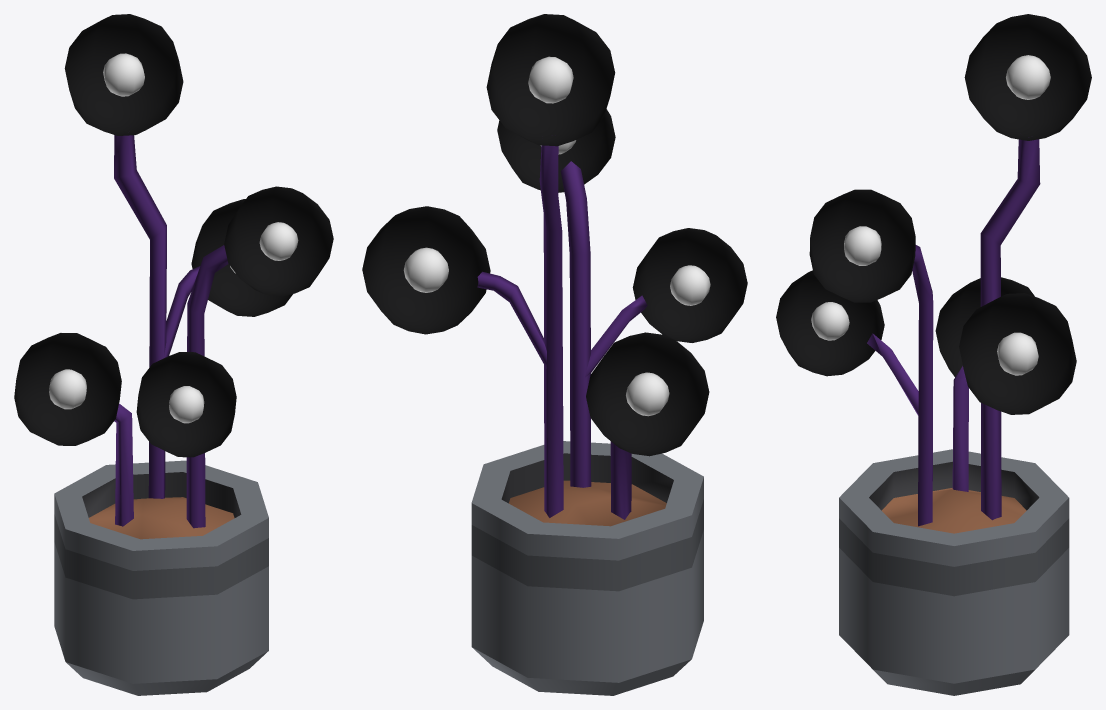
The model's file is Plant7.glb.
3 renders of one model, left to right at view 1: azimuth 30°, elevation 25°; view 2: azimuth 150°, elevation 25°; view 3: azimuth 270°, elevation 25°, orthographic. The views are drawn at different scales.
Visible parts, largest first — view 1: Plant7; view 2: Plant7; view 3: Plant7.
Boxes of the visible parts, x1=… form: Plant7: x1=14, y1=14, x2=333, y2=695; Plant7: x1=362, y1=14, x2=747, y2=695; Plant7: x1=776, y1=14, x2=1091, y2=695.
Bounding box in the file's own units: 0.5778 × 1.17 × 0.5253.
Materials: 2 (1 with a texture image).
